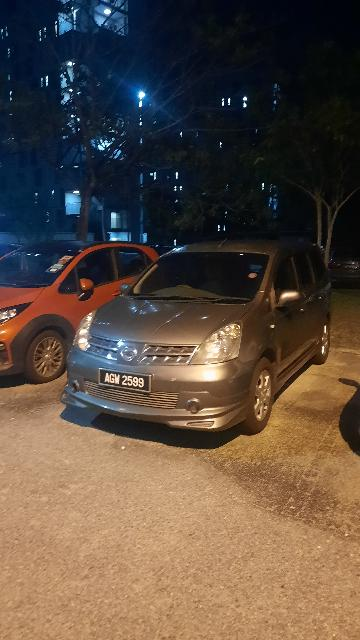License_Plate: (99, 367, 153, 397)
car: (67, 239, 335, 440), (1, 234, 165, 386)
